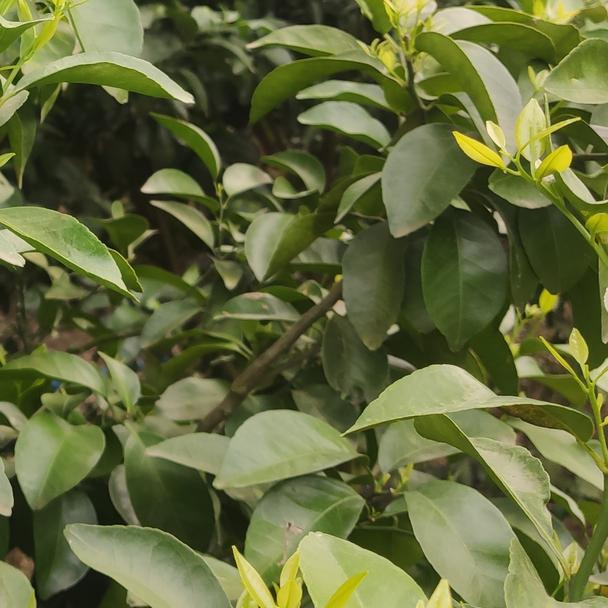shoot: (467, 102, 572, 224)
